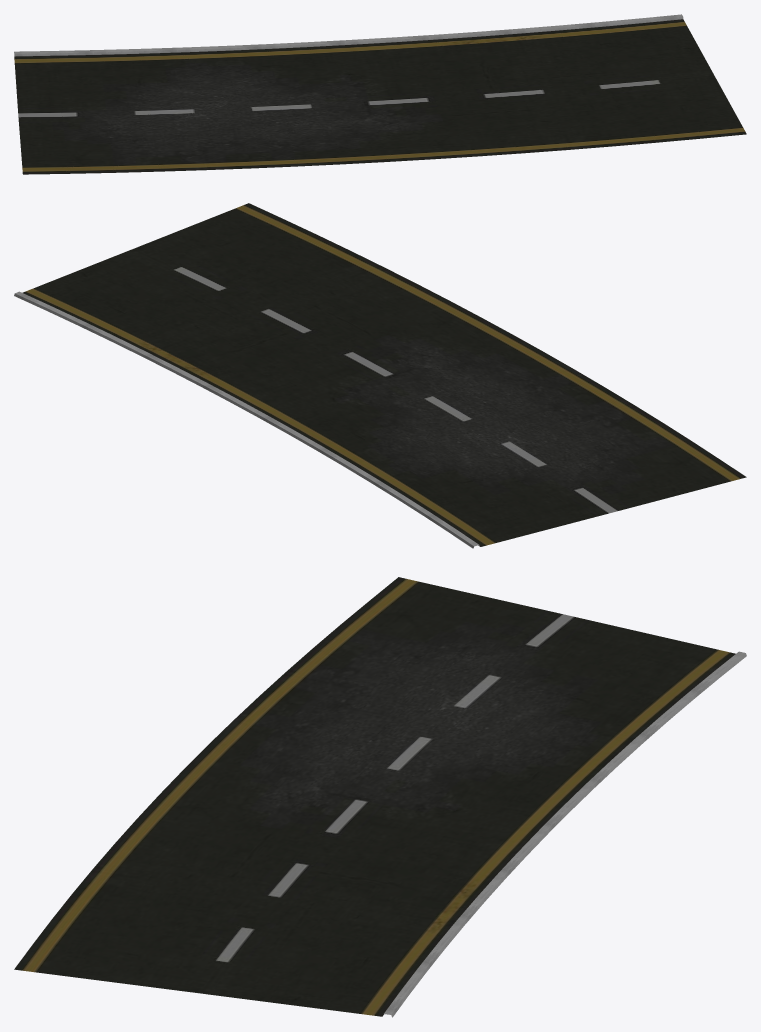
File: Road.gltf
3 views of the same model, one above another, from view 1: azimuth 30°, elevation 25°; view 2: azimuth 150°, elevation 25°; view 3: azimuth 270°, elevation 25° (orthographic). The views are drawn at different scales.
Visible parts, largest first — view 1: FLOORhall_circ1125_Road_0Base.007; view 2: FLOORhall_circ1125_Road_0Base.007; view 3: FLOORhall_circ1125_Road_0Base.007.
Part boxes in pixels (x1,y1,x2,y2): FLOORhall_circ1125_Road_0Base.007: [14, 14, 746, 174]; FLOORhall_circ1125_Road_0Base.007: [14, 203, 746, 548]; FLOORhall_circ1125_Road_0Base.007: [14, 577, 746, 1017].
Size of the model in its own units: 18.26 by 0.0564 by 12.83.
2 materials, 2 textured.
